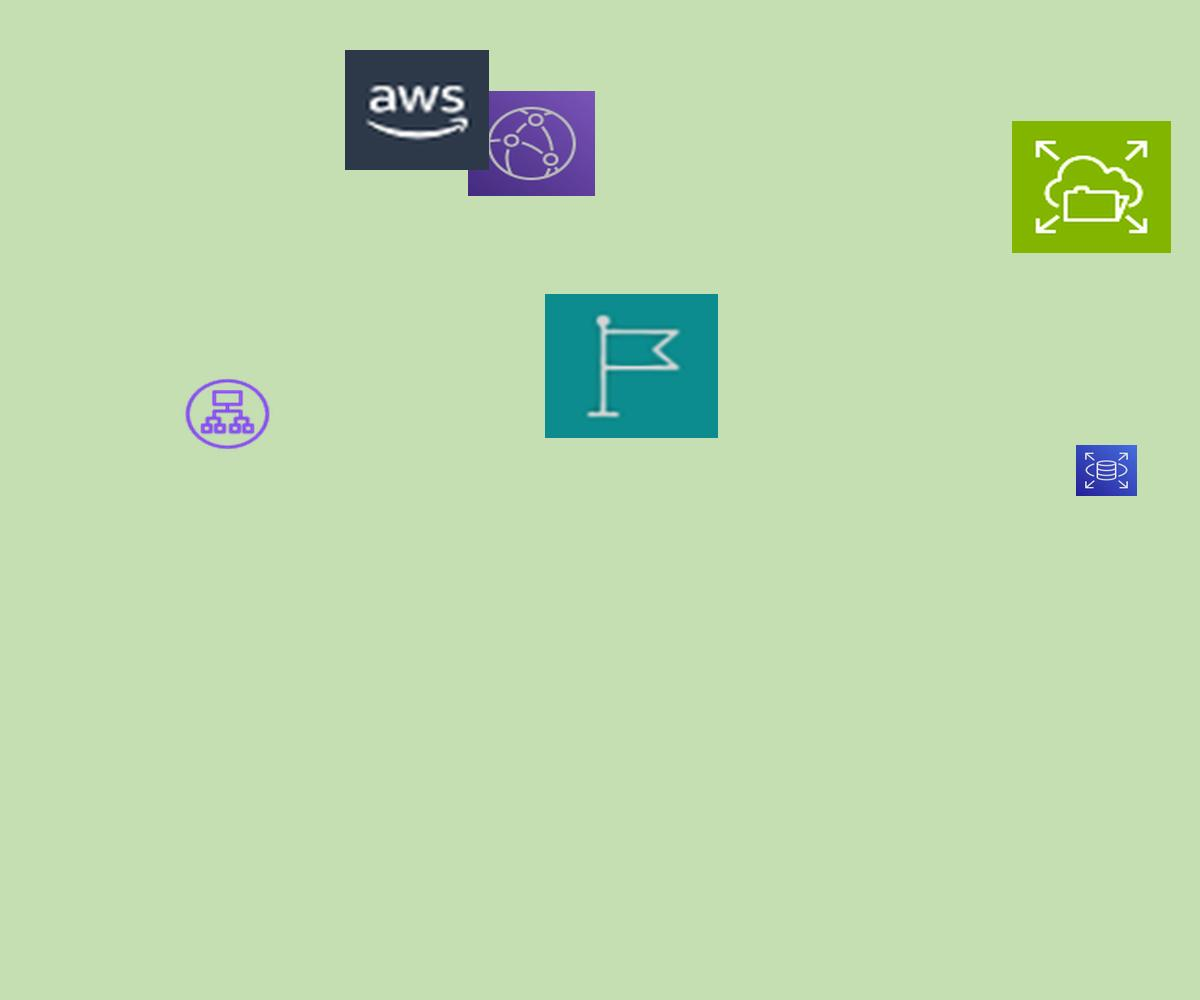AWS-Cloud-logo: (345, 50, 489, 170)
AWS-CloudFront: (468, 91, 595, 196)
AWS-EFS: (1012, 121, 1171, 253)
AWS-RDS: (1076, 445, 1137, 496)
AWS-Region: (545, 294, 718, 438)
AWS-Res_Elastic-Load-Balancing_Application-Load-Balancer: (182, 376, 273, 452)
